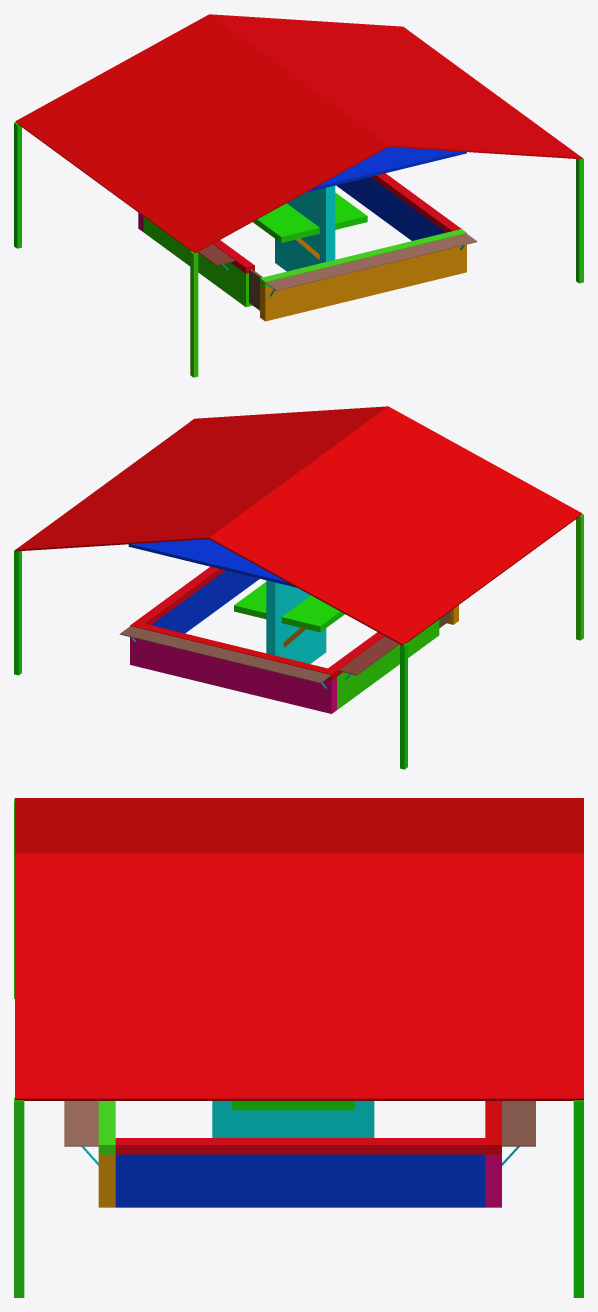
File: Cafeteria.fbx
The picture shows the model from 3 angles, top to bottom: view 1: azimuth 30°, elevation 25°; view 2: azimuth 150°, elevation 25°; view 3: azimuth 270°, elevation 25°; orthographic projection. The views are drawn at different scales.
Parts seen in each view (by area): view 1: Cube.010, Cube.023, Cube, Cube.009, Cube.006, Cube.012, Cube.011, Cube.028, Cube.004, Cube.001, Cube.007, Cube.027 (+2 smaller); view 2: Cube.010, Cube.023, Cube.002, Cube.009, Cube.006, Cube.028, Cube.017, Cube.011, Cube.004, Cube.003, Cube.007, Cube.024 (+4 smaller); view 3: Cube.023, Cube.010, Cube.006, Cube.007, Cube.009, Cube.026, Cube.025, Cube.012, Cube.017, Cube.011, Cube.001, Cube (+2 smaller).
Boxes of the visible parts, x1,y1,x2,y2 form: Cube.010: [15, 14, 388, 253]; Cube.023: [210, 14, 582, 159]; Cube: [260, 244, 466, 321]; Cube.009: [275, 185, 335, 271]; Cube.006: [336, 177, 445, 240]; Cube.012: [265, 233, 477, 290]; Cube.011: [253, 192, 367, 242]; Cube.028: [306, 147, 466, 192]; Cube.004: [143, 216, 252, 306]; Cube.001: [260, 229, 466, 287]; Cube.007: [370, 173, 461, 232]; Cube.027: [190, 251, 198, 377]; Cube.010: [209, 406, 582, 645]; Cube.023: [15, 406, 387, 551]; Cube.002: [130, 637, 336, 713]; Cube.009: [266, 580, 326, 663]; Cube.006: [151, 570, 259, 633]; Cube.028: [128, 539, 296, 587]; Cube.017: [119, 626, 331, 683]; Cube.011: [234, 582, 344, 632]; Cube.004: [337, 619, 439, 709]; Cube.003: [130, 621, 336, 680]; Cube.007: [136, 566, 225, 624]; Cube.024: [400, 643, 407, 769]; Cube.023: [15, 853, 583, 1100]; Cube.010: [15, 798, 583, 853]; Cube.006: [115, 1154, 485, 1207]; Cube.007: [115, 1138, 485, 1154]; Cube.009: [212, 1101, 374, 1137]; Cube.026: [14, 1097, 24, 1297]; Cube.025: [573, 1100, 583, 1297]; Cube.012: [64, 1101, 98, 1146]; Cube.017: [502, 1101, 535, 1146]; Cube.011: [232, 1101, 354, 1110]; Cube.001: [98, 1101, 115, 1154]; Cube: [98, 1154, 115, 1207].
Size of the model in its own units: 84.11 by 41.23 by 66.95.
